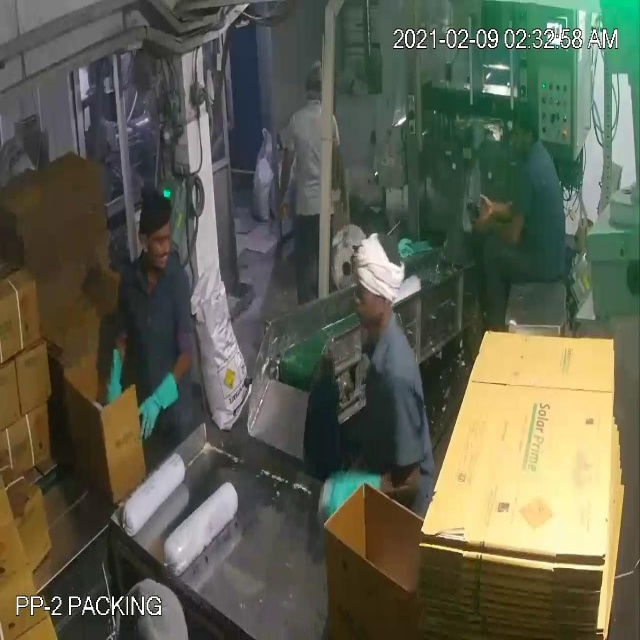Guantes: (293, 445, 397, 532), (127, 372, 189, 447), (94, 335, 140, 426)
Sin_guantes: (464, 173, 526, 227), (461, 208, 537, 252), (266, 141, 298, 226)
